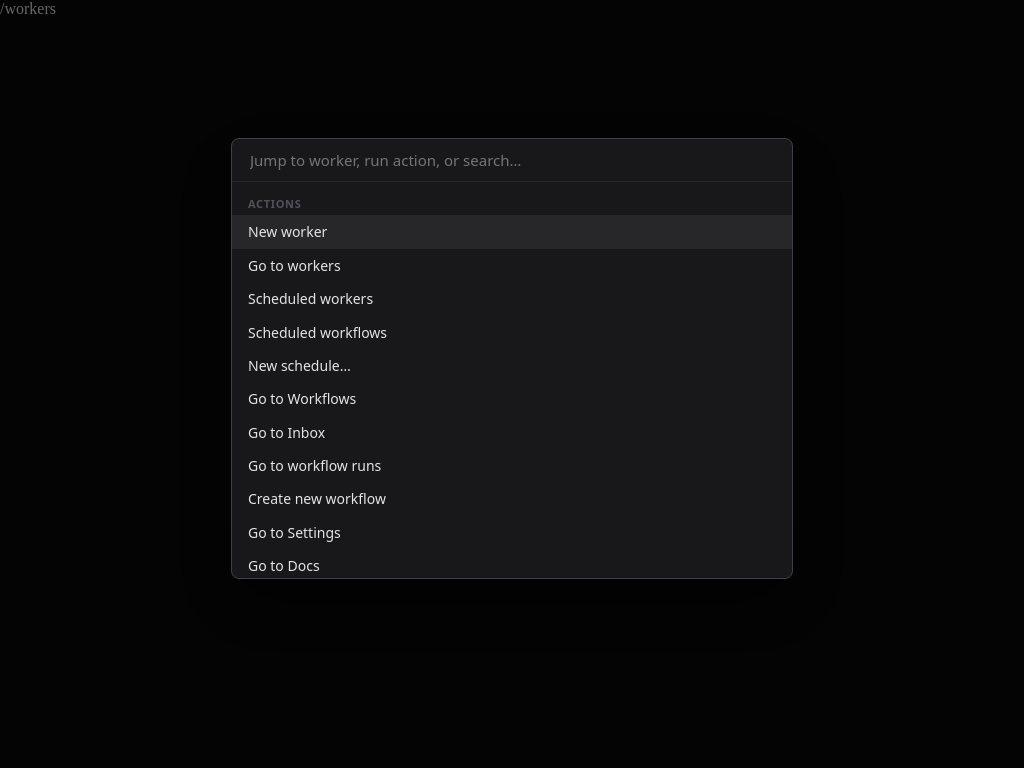
Test: CommandPalette schedule entries › jumps to the scheduled workflows sub-tab
This screenshot has width=1024, height=768.
Click the option "Scheduled workflows": point(318, 332) [248, 322, 387, 342]
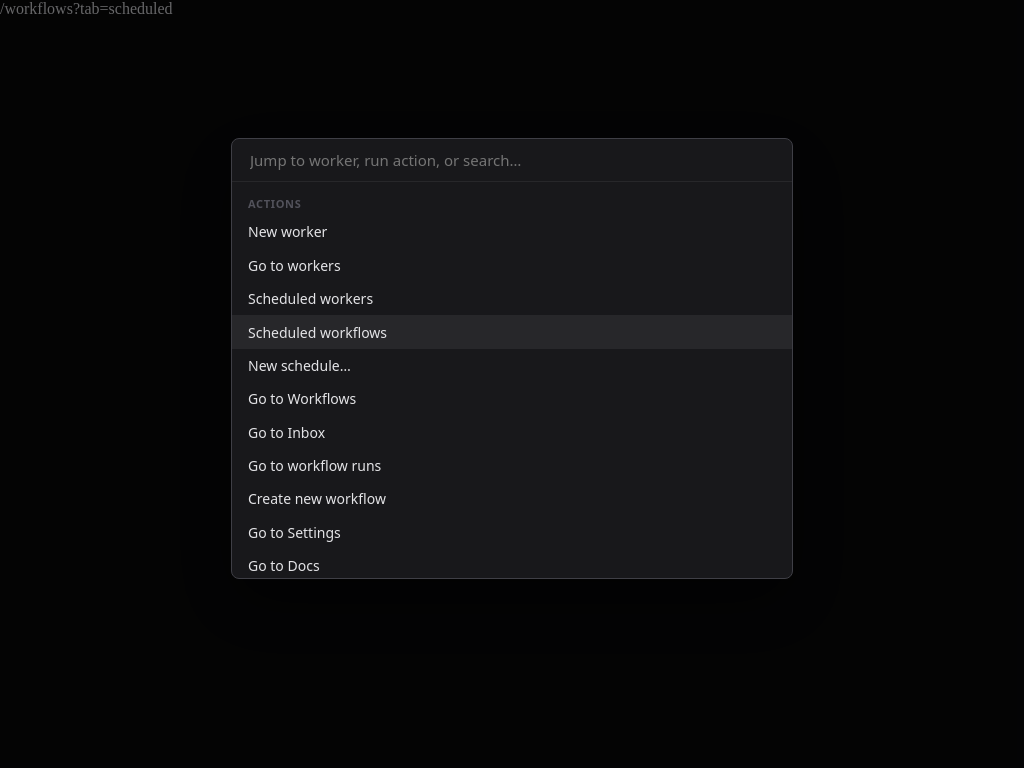
Expected: the text with test id "location" reads "/workflows?tab=scheduled", [0, 0, 172, 17]
